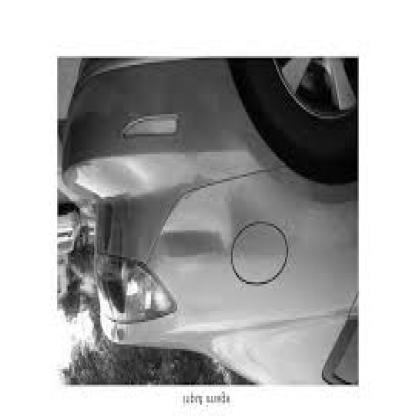dent: (156, 196, 232, 262)
